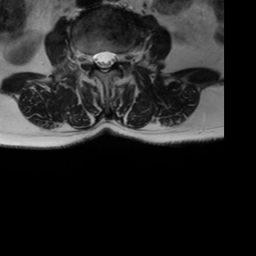CCS_normal: (100, 43, 108, 77)
LFS_normal: (116, 42, 124, 69)
LLS_normal: (108, 42, 116, 71)
RFS_normal: (83, 45, 91, 70)
RLS_normal: (91, 44, 100, 70)
